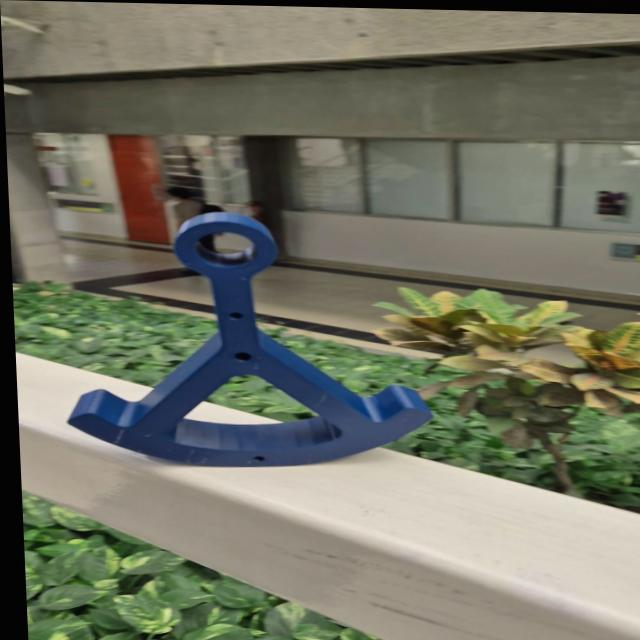haptic: (56, 206, 439, 472)
